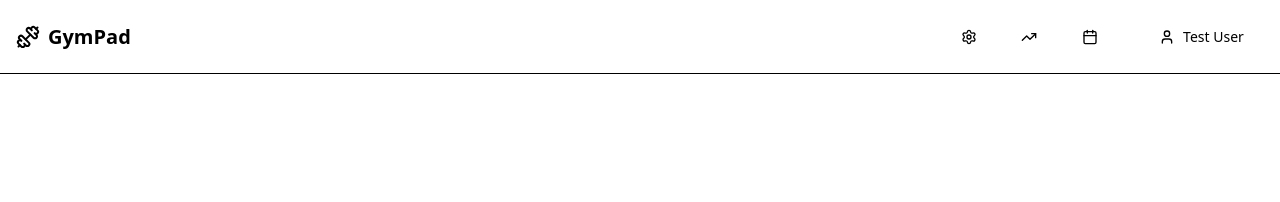
Test: Header Component › User Menu › closes user menu after logout
Click the button titled "Test User": (1201, 37) [1139,16,1264,57]
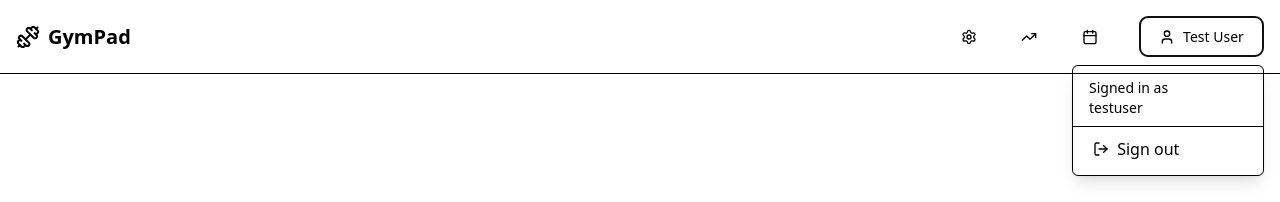
Click the button "Sign out": (1168, 149) [1073,127,1263,171]
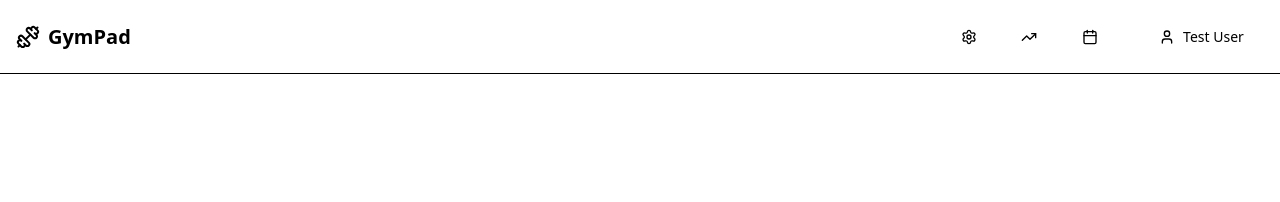
Expected: the text "Signed in as" is gone
